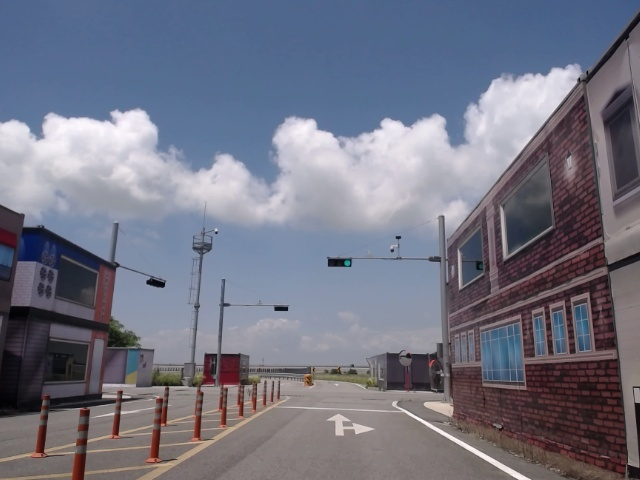green_3: (329, 259, 350, 267)
